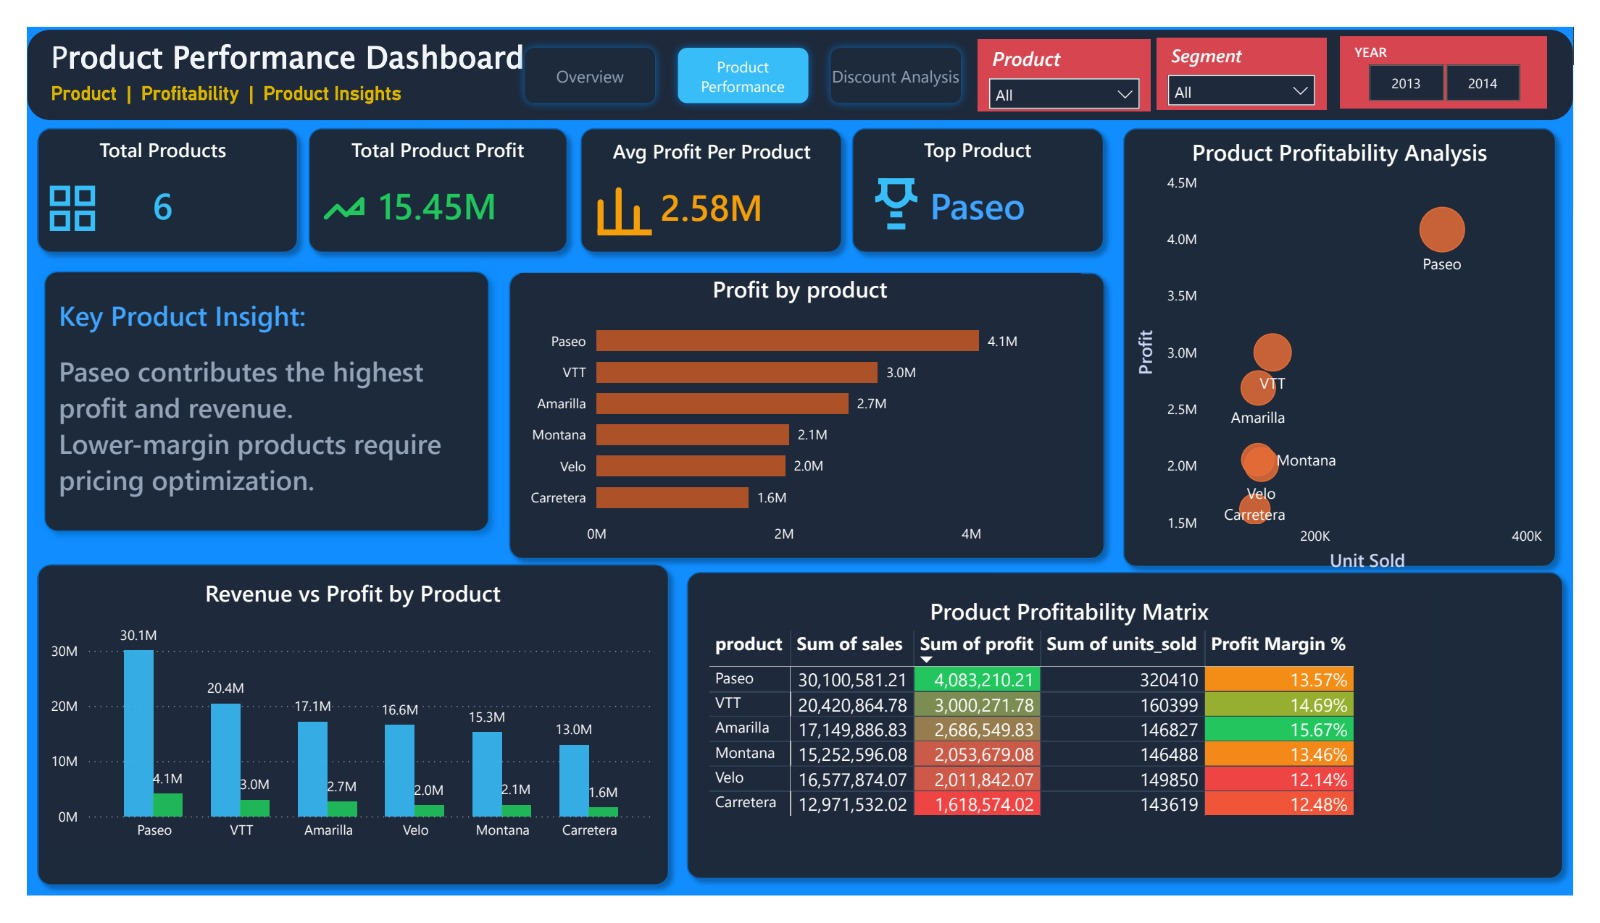

What the dashboard file says about the page in this screenshot:
{"tool":"powerbi","page":{"name":"Product Performance","canvas":[1366,768],"ordinal":1},"visuals":[{"type":"shape","box":[960,80,400,448],"z":0},{"type":"shape","box":[0,208,128,560],"z":1000},{"type":"shape","box":[720,528,640,240],"z":2000},{"type":"shape","box":[416.6,207.8,543.9,319.8],"z":3000},{"type":"shape","box":[144,528,576,240],"z":4000},{"type":"shape","box":[720,80,240,128],"z":5000},{"type":"shape","box":[480,80,240,128],"z":6000},{"type":"shape","box":[240,80,240,128],"z":7000},{"type":"shape","box":[0,80,240,128],"z":8000},{"type":"shape","box":[0,1.9,1365.5,80.4],"z":9000},{"type":"textbox","box":[16.3,7.7,431.9,70.9],"z":10000},{"type":"pageNavigator","box":[16,224,96,528],"z":11000},{"type":"cardVisual","title":"Total Products","fields":{"Data":["Count(financial_dashboard_view.product)"]},"box":[16,96,208,96],"z":12000},{"type":"cardVisual","title":"Total Product Profit","fields":{"Data":["Sum(financial_dashboard_view.profit)"]},"box":[256,96,208,96],"z":13000},{"type":"cardVisual","title":"Avg Profit Per Product","fields":{"Data":["financial_dashboard_view.Avg Profit Per Product"]},"box":[496,96,208,96],"z":14000},{"type":"clusteredBarChart","title":"Profit by product","fields":{"Category":["financial_dashboard_view.product"],"Y":["financial_dashboard_view.Total Profit"]},"box":[448,224,496,288],"z":15000},{"type":"clusteredColumnChart","title":"Revenue vs Profit by Product","fields":{"Category":["financial_dashboard_view.product"],"Y":["financial_dashboard_view.Total Revenue","financial_dashboard_view.Total Profit"]},"box":[160,544,544,208],"z":16000},{"type":"cardVisual","title":"Top Product","fields":{"Data":["financial_dashboard_view.Top Performing Product"]},"box":[736,96,208,96],"z":17000},{"type":"scatterChart","title":"Product Profitability Analysis","fields":{"Category":["financial_dashboard_view.product"],"Size":["financial_dashboard_view.Total Revenue"],"X":["Sum(financial_dashboard_view.units_sold)"],"Y":["financial_dashboard_view.Total Profit"]},"box":[976,96,368,416],"z":18000},{"type":"pivotTable","title":"Product Profitability Matrix","fields":{"Rows":["financial_dashboard_view.product"],"Values":["Sum(financial_dashboard_view.sales)","Sum(financial_dashboard_view.profit)","Sum(financial_dashboard_view.units_sold)","financial_dashboard_view.Profit Margin %"]},"box":[736,544,608,208],"z":19000},{"type":"slicer","fields":{"Values":["financial_dashboard_view.year"]},"box":[1087.8,11.5,255.7,64.2],"z":20000},{"type":"slicer","fields":{"Values":["financial_dashboard_view.segment"]},"box":[784.3,12.4,287.3,64.2],"z":21000},{"type":"slicer","fields":{"Values":["financial_dashboard_view.product"]},"box":[496,11.5,272,64.2],"z":22000},{"type":"shape","box":[128.3,207.8,288,320],"z":23000},{"type":"textbox","box":[143.6,233.7,251.9,271],"z":24000},{"type":"image","box":[256,128,48,64],"z":25000},{"type":"image","box":[16,128,48,64],"z":26000},{"type":"image","box":[496,128,64,64],"z":27000},{"type":"image","box":[736,128,64,64],"z":28000}]}

Visuals, with their boxes in screenshot pixels (x1, y1, x2, y2), scaled from the page's 1366x768 canvas onto the 1600x923 screenshot:
shape: crop(1124, 96, 1593, 635)
shape: crop(0, 250, 150, 922)
shape: crop(843, 635, 1593, 922)
shape: crop(488, 250, 1125, 634)
shape: crop(169, 635, 843, 922)
shape: crop(843, 96, 1124, 250)
shape: crop(562, 96, 843, 250)
shape: crop(281, 96, 562, 250)
shape: crop(0, 96, 281, 250)
shape: crop(0, 2, 1599, 99)
textbox: crop(19, 9, 525, 94)
pageNavigator: crop(19, 269, 131, 904)
"Total Products" cardVisual: crop(19, 115, 262, 231)
"Total Product Profit" cardVisual: crop(300, 115, 543, 231)
"Avg Profit Per Product" cardVisual: crop(581, 115, 825, 231)
"Profit by product" clusteredBarChart: crop(525, 269, 1106, 615)
"Revenue vs Profit by Product" clusteredColumnChart: crop(187, 654, 825, 904)
"Top Product" cardVisual: crop(862, 115, 1106, 231)
"Product Profitability Analysis" scatterChart: crop(1143, 115, 1574, 615)
"Product Profitability Matrix" pivotTable: crop(862, 654, 1574, 904)
slicer - financial_dashboard_view.year: crop(1274, 14, 1574, 91)
slicer - financial_dashboard_view.segment: crop(919, 15, 1255, 92)
slicer - financial_dashboard_view.product: crop(581, 14, 900, 91)
shape: crop(150, 250, 488, 634)
textbox: crop(168, 281, 463, 607)
image: crop(300, 154, 356, 231)
image: crop(19, 154, 75, 231)
image: crop(581, 154, 656, 231)
image: crop(862, 154, 937, 231)
